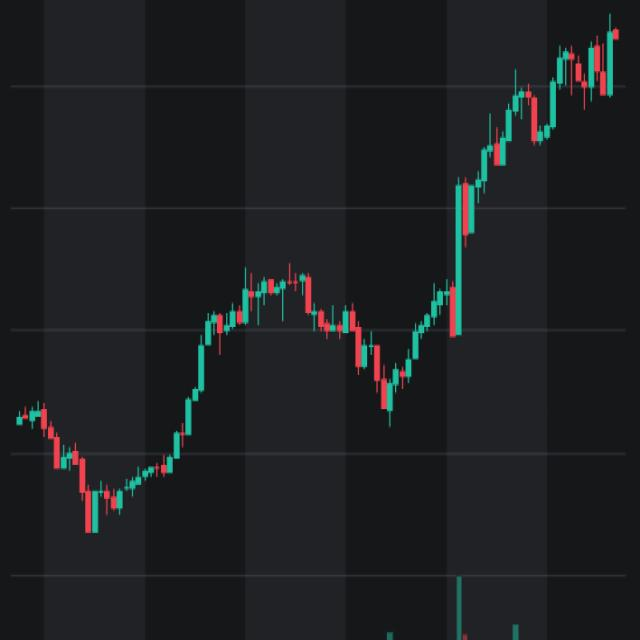Resistance-breakout: (216, 82, 523, 424)
